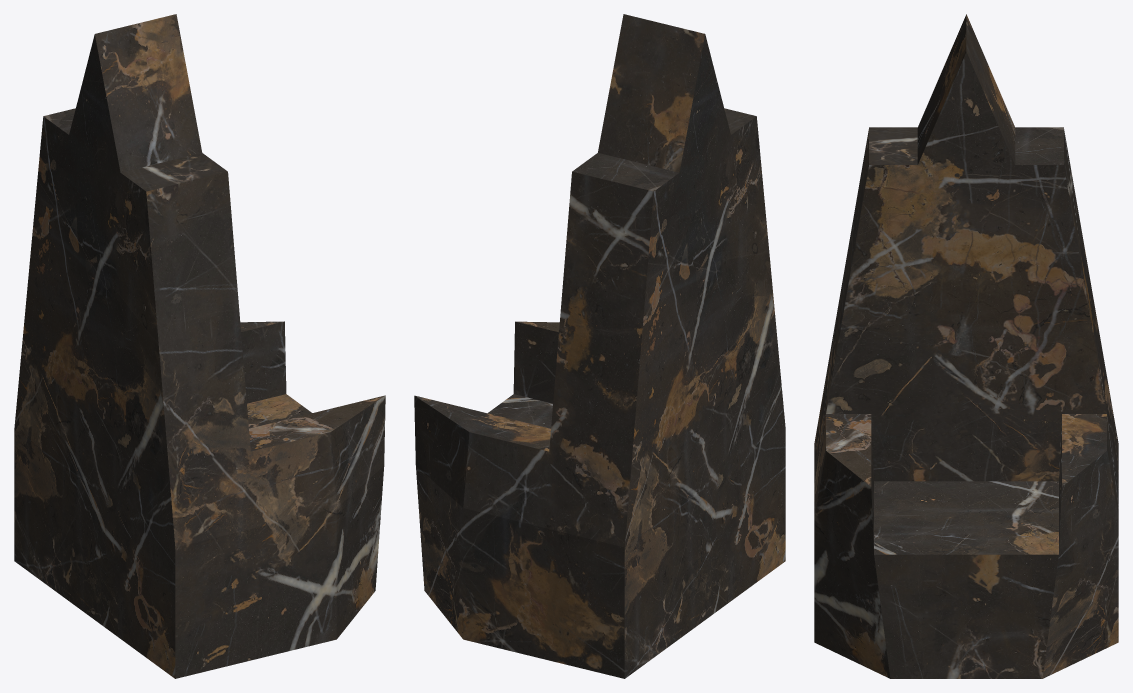
File: throne.fbx
3 views of the same model, side by side, from view 1: azimuth 30°, elevation 25°; view 2: azimuth 150°, elevation 25°; view 3: azimuth 270°, elevation 25° (orthographic). The views are drawn at different scales.
Visible parts, largest first — view 1: Cube; view 2: Cube; view 3: Cube.
Boxes of the visible parts, x1,y1,x2,y2 form: Cube: (14,14,385,678); Cube: (414,14,785,678); Cube: (814,14,1118,678).
Size of the model in its own units: 304 by 709 by 353.
1 material, 1 textured.
